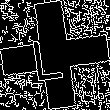L_N: (36, 28, 74, 82)
